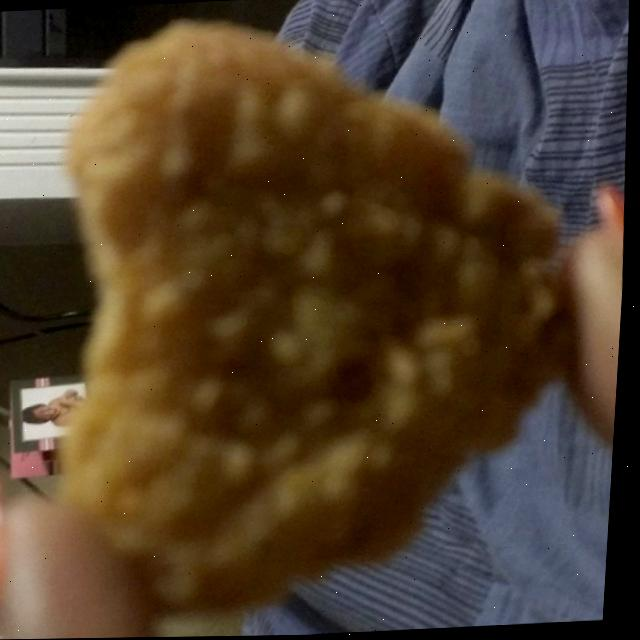鸡肉料理 含炸鸡: (0, 5, 627, 640)
